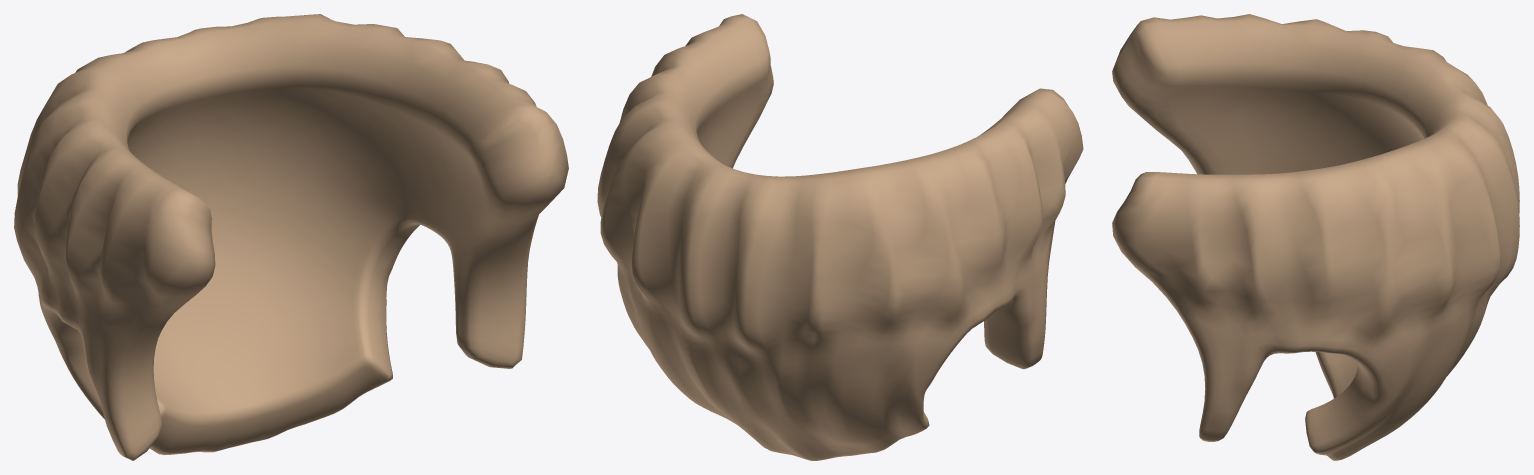
Rendered from hair-2-e7527985.glb.
3 views of the same model, side by side, from view 1: azimuth 30°, elevation 25°; view 2: azimuth 150°, elevation 25°; view 3: azimuth 270°, elevation 25° (orthographic). The views are drawn at different scales.
Visible parts, largest first — view 1: Geo_White_Old_Male_Hair_2.001; view 2: Geo_White_Old_Male_Hair_2.001; view 3: Geo_White_Old_Male_Hair_2.001.
Part boxes in pixels (x1,y1,x2,y2): Geo_White_Old_Male_Hair_2.001: (14, 14, 568, 460); Geo_White_Old_Male_Hair_2.001: (597, 14, 1083, 460); Geo_White_Old_Male_Hair_2.001: (1112, 14, 1519, 460).
Bounding box in the file's own units: 1.49 × 1.18 × 1.27.
